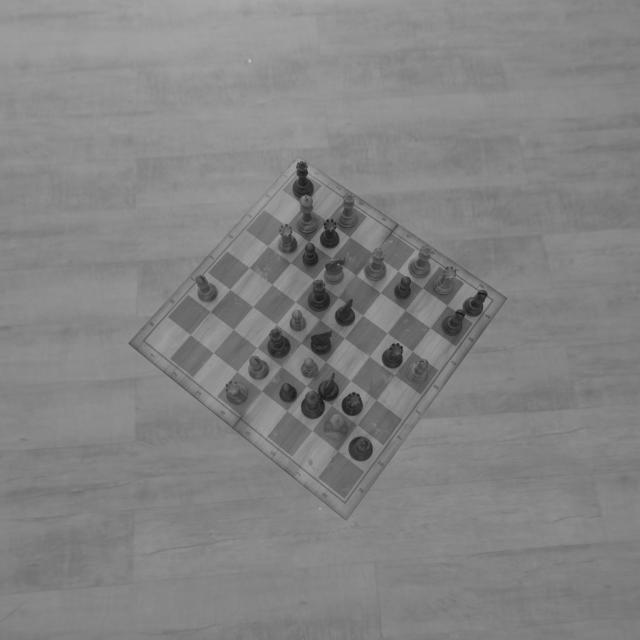chessboard: (145, 169, 491, 501)
